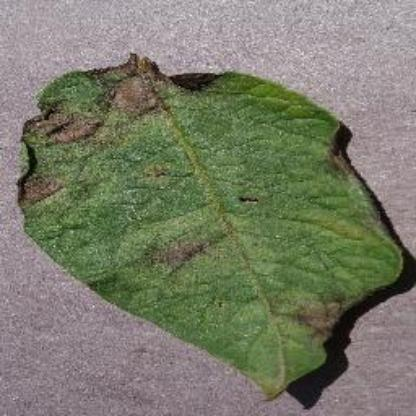Late-Blight: (10, 49, 412, 415)
